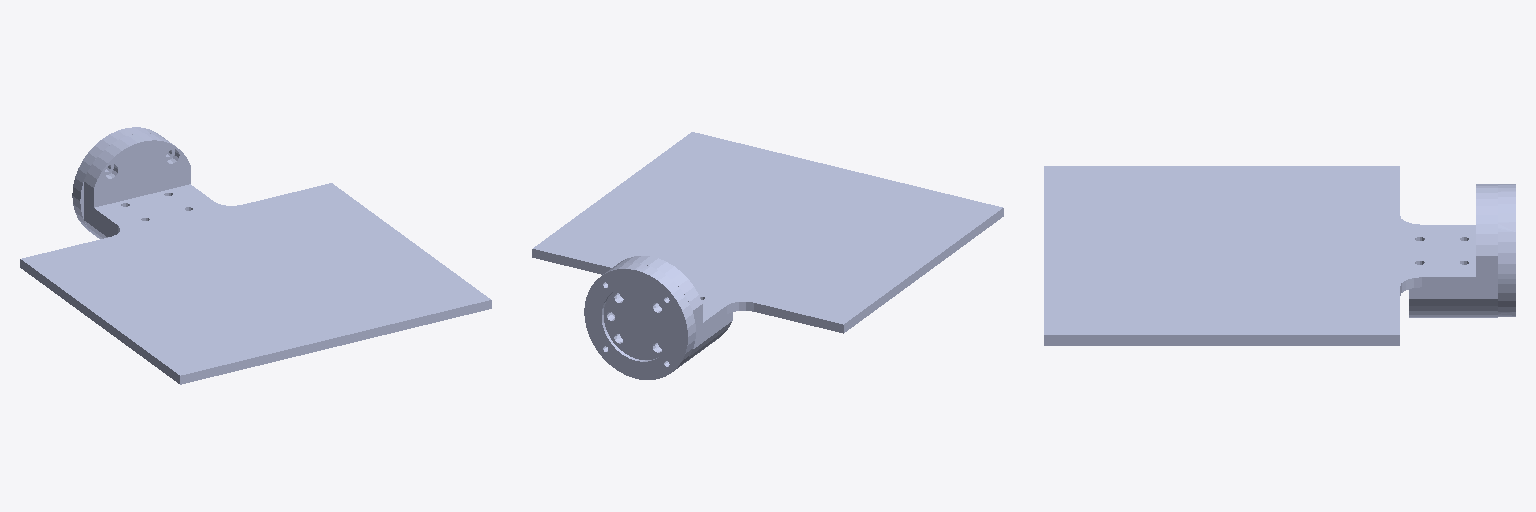
URDF robot description (camera_calibration_tool_irb120):
<?xml version="1.0" encoding="utf-8"?>
<!-- This URDF was automatically created by SolidWorks to URDF Exporter! Originally created by [author] ([email redacted]) 
     Commit Version: 1.6.0-1-g15f4949  Build Version: 1.6.7594.29634
     For more information, please see http://wiki.ros.org/sw_urdf_exporter -->
<robot
  name="camera_calibration_tool_irb120">
  <link
    name="calib_irb120_mount">
    <inertial>
      <origin
        xyz="-8.12565780551138E-05 -0.00287805849749058 -3.52248683292909E-19"
        rpy="0 0 0" />
      <mass
        value="0.0209349166233355" />
      <inertia
        ixx="4.95778958493382E-06"
        ixy="1.97846625513937E-10"
        ixz="-4.43831754358549E-23"
        iyy="9.71241755254459E-06"
        iyz="-2.75701045324081E-22"
        izz="5.03139901662538E-06" />
    </inertial>
    <visual>
      <origin
        xyz="0 0 0"
        rpy="0 0 0" />
      <geometry>
        <mesh
          filename="package://camera_calibration_tool_irb120/meshes/calib_irb120_mount.STL" />
      </geometry>
      <material
        name="">
        <color
          rgba="0.792156862745098 0.819607843137255 0.933333333333333 1" />
      </material>
    </visual>
    <collision>
      <origin
        xyz="0 0 0"
        rpy="0 0 0" />
      <geometry>
        <mesh
          filename="package://camera_calibration_tool_irb120/meshes/calib_irb120_mount.STL" />
      </geometry>
    </collision>
  </link>
  <link
    name="calib_chessboard_mount">
    <inertial>
      <origin
        xyz="-3.45867604983378E-17 -0.00894935918184562 0.0168899392357391"
        rpy="0 0 0" />
      <mass
        value="0.051158149759327" />
      <inertia
        ixx="1.66225607083464E-05"
        ixy="-3.06301449855151E-22"
        ixz="8.3201613309091E-22"
        iyy="1.74442705550819E-05"
        iyz="3.7130506703622E-06"
        izz="2.00339404612724E-05" />
    </inertial>
    <visual>
      <origin
        xyz="0 0 0"
        rpy="0 0 0" />
      <geometry>
        <mesh
          filename="package://camera_calibration_tool_irb120/meshes/calib_chessboard_mount.STL" />
      </geometry>
      <material
        name="">
        <color
          rgba="0.792156862745098 0.819607843137255 0.933333333333333 1" />
      </material>
    </visual>
    <collision>
      <origin
        xyz="0 0 0"
        rpy="0 0 0" />
      <geometry>
        <mesh
          filename="package://camera_calibration_tool_irb120/meshes/calib_chessboard_mount.STL" />
      </geometry>
    </collision>
  </link>
  <joint
    name="calib_mount_joint"
    type="fixed">
    <origin
      xyz="0 -0.006 0"
      rpy="1.5708 0 0" />
    <parent
      link="calib_irb120_mount" />
    <child
      link="calib_chessboard_mount" />
    <axis
      xyz="0 0 0" />
  </joint>
  <link
    name="calib_chessboard">
    <inertial>
      <origin
        xyz="9.22626218376613E-18 -0.00587706046456411 0.00249956082033895"
        rpy="0 0 0" />
      <mass
        value="0.153331049840439" />
      <inertia
        ixx="0.000390178689718211"
        ixy="4.45302065945594E-20"
        ixz="-1.10250787557035E-21"
        iyy="0.000391719917576771"
        iyz="-6.27088743359988E-09"
        izz="0.00078125964975703" />
    </inertial>
    <visual>
      <origin
        xyz="0 0 0"
        rpy="0 0 0" />
      <geometry>
        <mesh
          filename="package://camera_calibration_tool_irb120/meshes/calib_chessboard.STL" />
      </geometry>
      <material
        name="">
        <color
          rgba="0.792156862745098 0.819607843137255 0.933333333333333 1" />
      </material>
    </visual>
    <collision>
      <origin
        xyz="0 0 0"
        rpy="0 0 0" />
      <geometry>
        <mesh
          filename="package://camera_calibration_tool_irb120/meshes/calib_chessboard.STL" />
      </geometry>
    </collision>
  </link>
  <joint
    name="calib_chessboard_joint"
    type="fixed">
    <origin
      xyz="0 0 0.124"
      rpy="1.5708 0 0" />
    <parent
      link="calib_chessboard_mount" />
    <child
      link="calib_chessboard" />
    <axis
      xyz="0 0 0" />
  </joint>
</robot>

--- Render facts (derived) ---
3 views of the same robot in one strip: view 1: azimuth 30°, elevation 25°; view 2: azimuth 150°, elevation 25°; view 3: azimuth 270°, elevation 25° (orthographic).
Model camera_calibration_tool_irb120 with 3 links and 2 joints (2 fixed), rooted at calib_irb120_mount, posed every joint at zero.
Visible links, largest first — view 1: calib_chessboard, calib_chessboard_mount, calib_irb120_mount; view 2: calib_chessboard, calib_irb120_mount, calib_chessboard_mount; view 3: calib_chessboard, calib_chessboard_mount, calib_irb120_mount.
Link boxes in pixels (bbox=[...]): calib_chessboard: bbox=[20, 183, 491, 384]; calib_chessboard_mount: bbox=[84, 133, 190, 238]; calib_irb120_mount: bbox=[72, 127, 164, 234]; calib_chessboard: bbox=[532, 132, 1003, 333]; calib_irb120_mount: bbox=[584, 263, 695, 379]; calib_chessboard_mount: bbox=[611, 256, 732, 365]; calib_chessboard: bbox=[1044, 166, 1475, 345]; calib_chessboard_mount: bbox=[1409, 184, 1497, 317]; calib_irb120_mount: bbox=[1498, 184, 1515, 316].
Size in the robot's own frame: 0.18 by 0.212 by 0.06 metres.
3 mesh visuals loaded from 3 distinct referenced files (3 binary STL).